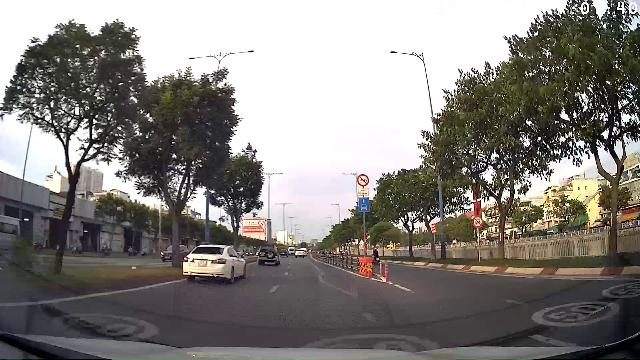103a-cam-oto: (472, 216, 483, 228)
